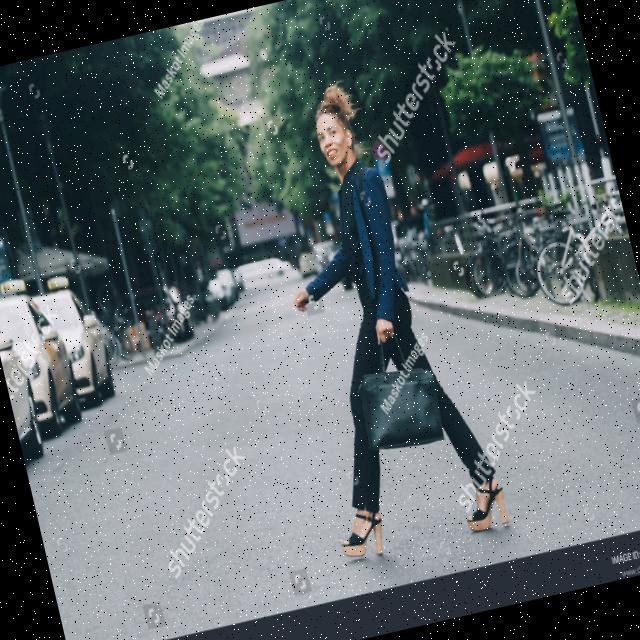Person: (239, 68, 511, 566)
